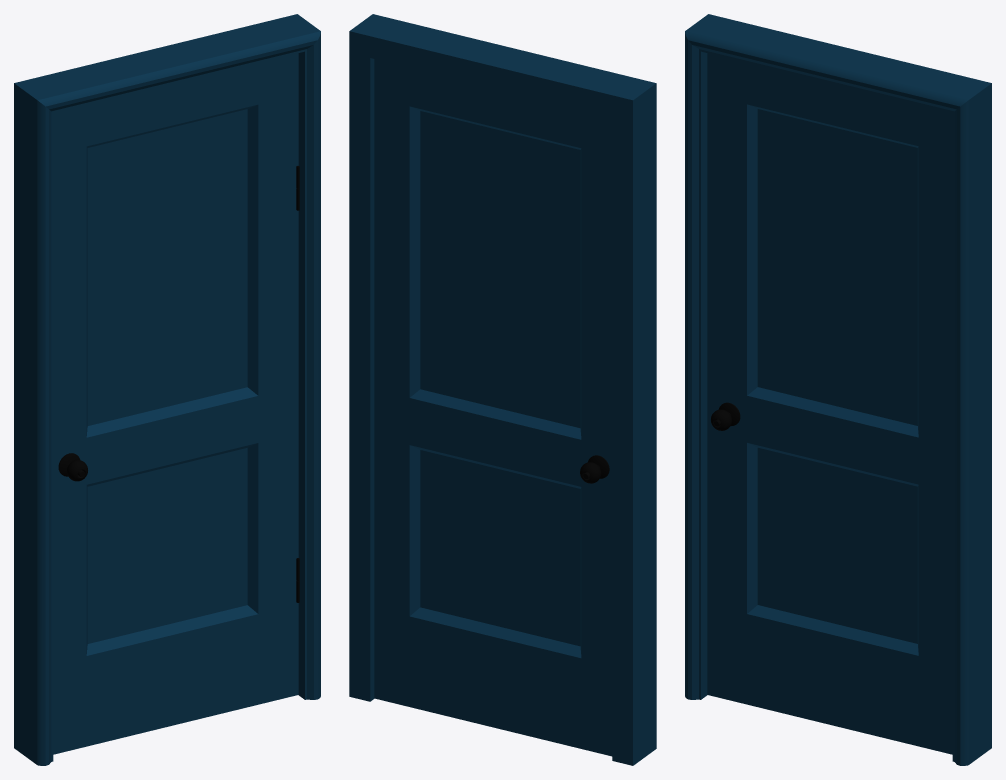
Rendered from add001.FBX.
The picture shows the model from 3 angles, left to right: view 1: azimuth 30°, elevation 25°; view 2: azimuth 150°, elevation 25°; view 3: azimuth 330°, elevation 25°; orthographic projection.
Parts seen in each view (by area): view 1: Door, Fr; view 2: Door, Fr; view 3: Door, Fr.
Boxes of the visible parts, x1,y1,x2,y2 form: Door: (53, 53, 299, 754); Fr: (14, 14, 320, 765); Door: (374, 59, 612, 756); Fr: (349, 14, 656, 765); Door: (707, 53, 952, 754); Fr: (685, 14, 991, 765).
Bounding box in the file's own units: 1010 × 2264 × 243.
